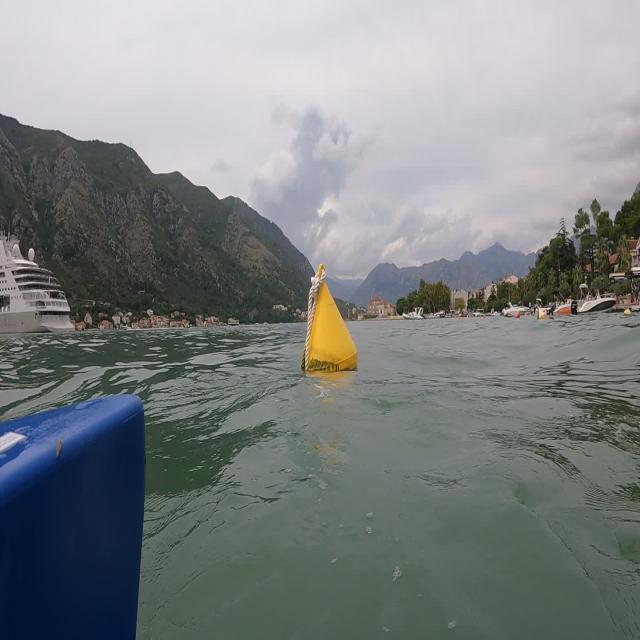boat: (1, 224, 86, 356)
buoy: (299, 261, 360, 380)
